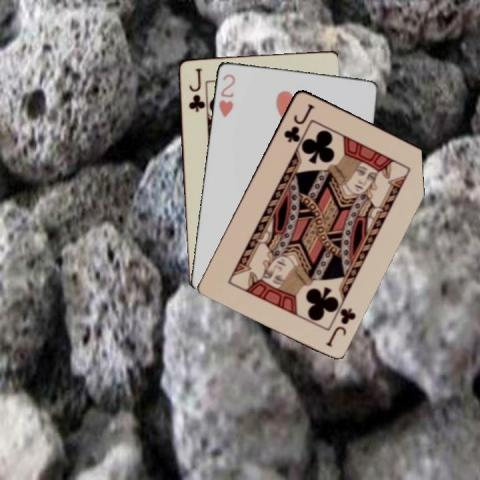2h: (215, 70, 237, 118)
Jc: (322, 305, 357, 348), (280, 100, 314, 144), (186, 65, 204, 113)
